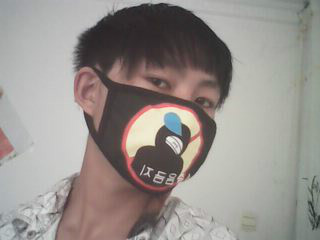face_mask: (98, 56, 216, 192)
